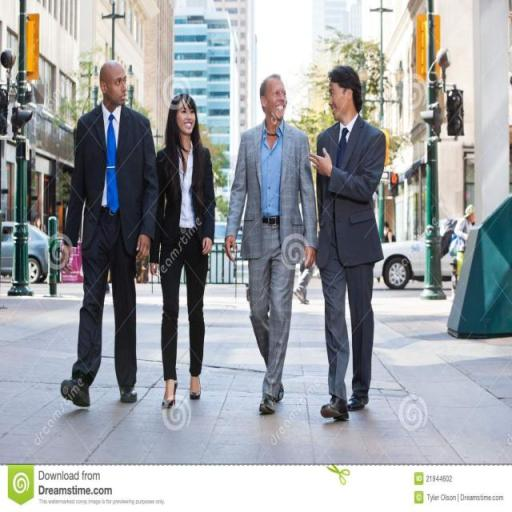person: (227, 75, 320, 416), (64, 64, 156, 408), (317, 67, 388, 424), (154, 92, 211, 408)
